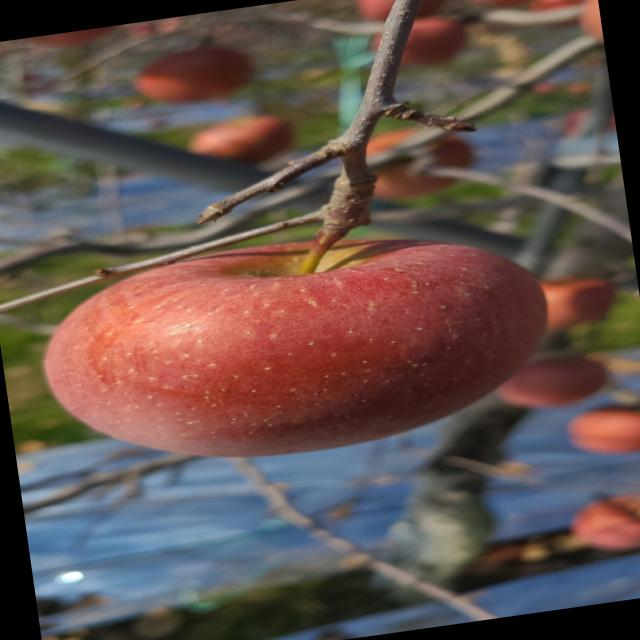fresh: (6, 207, 579, 496)
